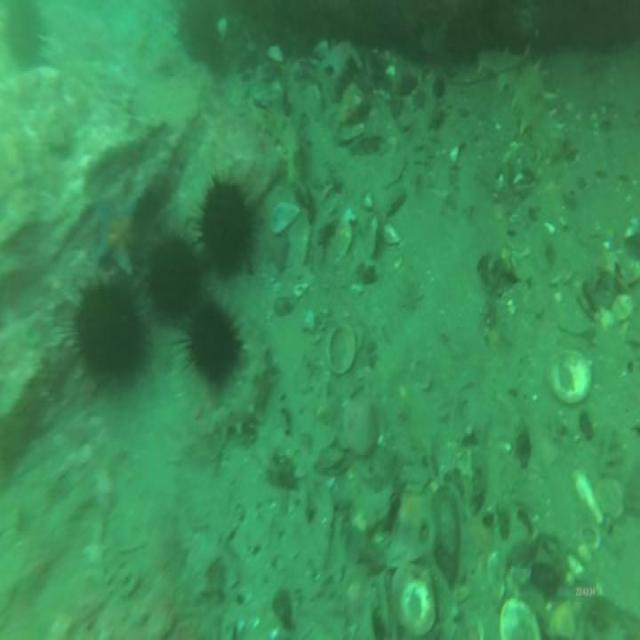echinus: (66, 272, 148, 396), (140, 223, 207, 332), (195, 171, 258, 278), (180, 297, 246, 387), (172, 0, 228, 68), (0, 0, 48, 73)
holothurian: (476, 38, 566, 163), (205, 340, 278, 452)
starfish: (91, 191, 145, 278)
